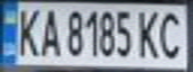1: (81, 7, 100, 57)
5: (115, 7, 136, 58)
8: (63, 6, 84, 57), (97, 7, 118, 57)
A: (36, 5, 63, 57)
C: (154, 7, 190, 61)
K: (133, 7, 163, 60), (12, 5, 42, 57)
